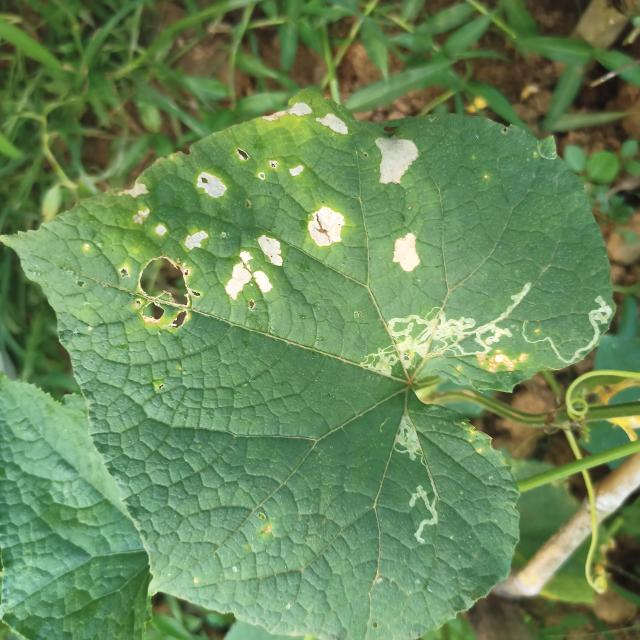disease_cucumber: (72, 97, 350, 328), (367, 130, 426, 283)
